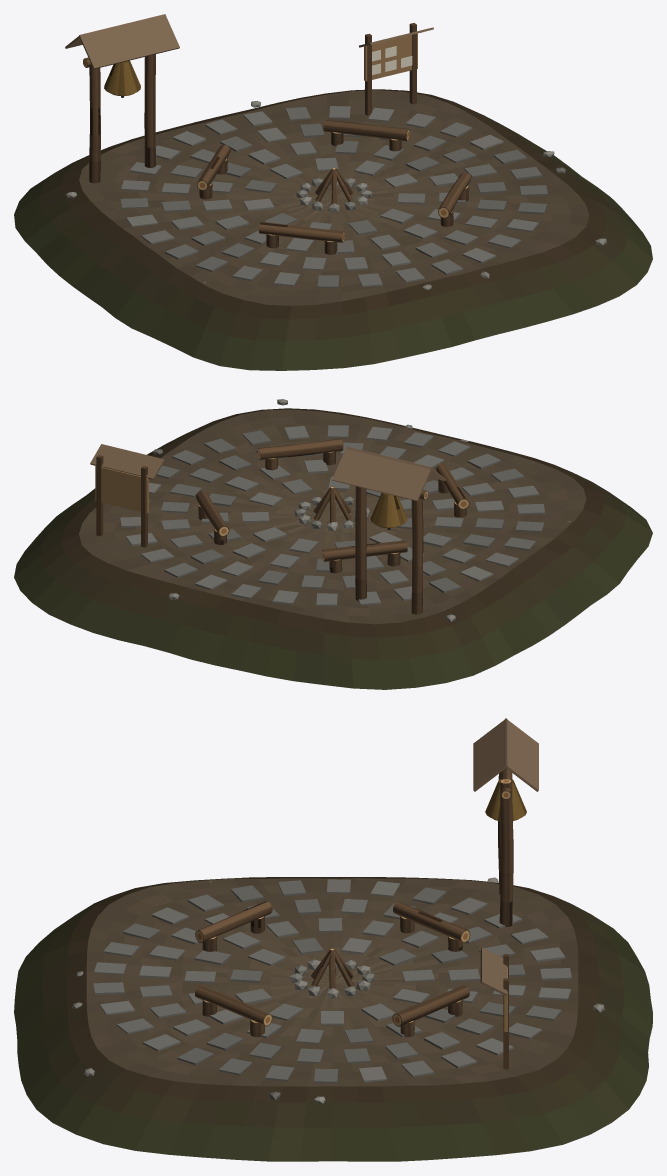
Rendered from meydan.glb.
3 views of the same model, one above another, from view 1: azimuth 30°, elevation 25°; view 2: azimuth 150°, elevation 25°; view 3: azimuth 270°, elevation 25° (orthographic). The views are drawn at different scales.
Visible parts, largest first — view 1: stone-ground-001, stone-found-006, stone-found-005, stone-found-004, shingle-frame-001, stone-found-003, log-frame-005, plank-board-001, log-bench-003, log-bench-001, stone-pit-007, stone-bell-008 (+3 smaller); view 2: stone-ground-001, stone-found-006, stone-found-005, plank-board-001, stone-found-004, shingle-frame-001, log-frame-005, stone-found-003, log-bench-004, log-bench-002, stone-bell-008, log-bench-001 (+3 smaller); view 3: stone-ground-001, stone-found-006, stone-found-005, stone-found-004, stone-found-003, shingle-frame-001, log-frame-005, plank-board-001, log-bench-004, log-bench-001, log-bench-002, log-bench-003 (+3 smaller).
Boxes of the visible parts, bbox=[...] form: stone-ground-001: bbox=[14, 89, 652, 370]; stone-found-006: bbox=[120, 106, 547, 288]; stone-found-005: bbox=[161, 123, 506, 270]; stone-found-004: bbox=[202, 141, 465, 253]; shingle-frame-001: bbox=[65, 14, 179, 69]; stone-found-003: bbox=[243, 157, 425, 235]; log-frame-005: bbox=[83, 54, 156, 183]; plank-board-001: bbox=[359, 23, 433, 115]; log-bench-003: bbox=[258, 221, 344, 254]; log-bench-001: bbox=[323, 120, 409, 151]; stone-pit-007: bbox=[296, 178, 372, 212]; stone-bell-008: bbox=[104, 60, 140, 97]; stone-ground-001: bbox=[14, 408, 652, 689]; stone-found-006: bbox=[120, 425, 545, 605]; stone-found-005: bbox=[161, 442, 504, 588]; plank-board-001: bbox=[90, 444, 164, 547]; stone-found-004: bbox=[202, 459, 463, 572]; shingle-frame-001: bbox=[332, 446, 446, 501]; log-frame-005: bbox=[355, 486, 428, 614]; stone-found-003: bbox=[242, 476, 411, 553]; log-bench-004: bbox=[257, 438, 343, 470]; log-bench-002: bbox=[322, 540, 407, 573]; stone-bell-008: bbox=[370, 493, 407, 529]; log-bench-001: bbox=[196, 490, 229, 544]; stone-ground-001: bbox=[14, 877, 652, 1161]; stone-found-006: bbox=[93, 879, 571, 1083]; stone-found-005: bbox=[139, 899, 525, 1063]; stone-found-004: bbox=[184, 918, 480, 1044]; stone-found-003: bbox=[230, 938, 434, 1025]; shingle-frame-001: bbox=[473, 718, 538, 791]; log-frame-005: bbox=[498, 768, 513, 926]; plank-board-001: bbox=[480, 947, 508, 1069]; log-bench-004: bbox=[195, 985, 272, 1037]; log-bench-001: bbox=[392, 985, 469, 1037]; log-bench-002: bbox=[393, 901, 470, 951]; log-bench-003: bbox=[195, 901, 272, 951].
Size of the model in its own units: 13.3 by 4.83 by 13.26.
